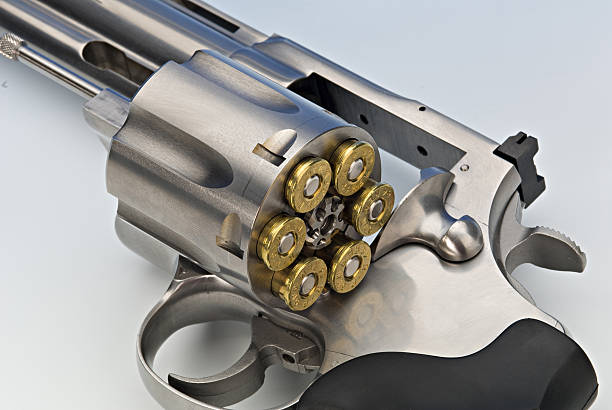pistol: (1, 2, 610, 410)
